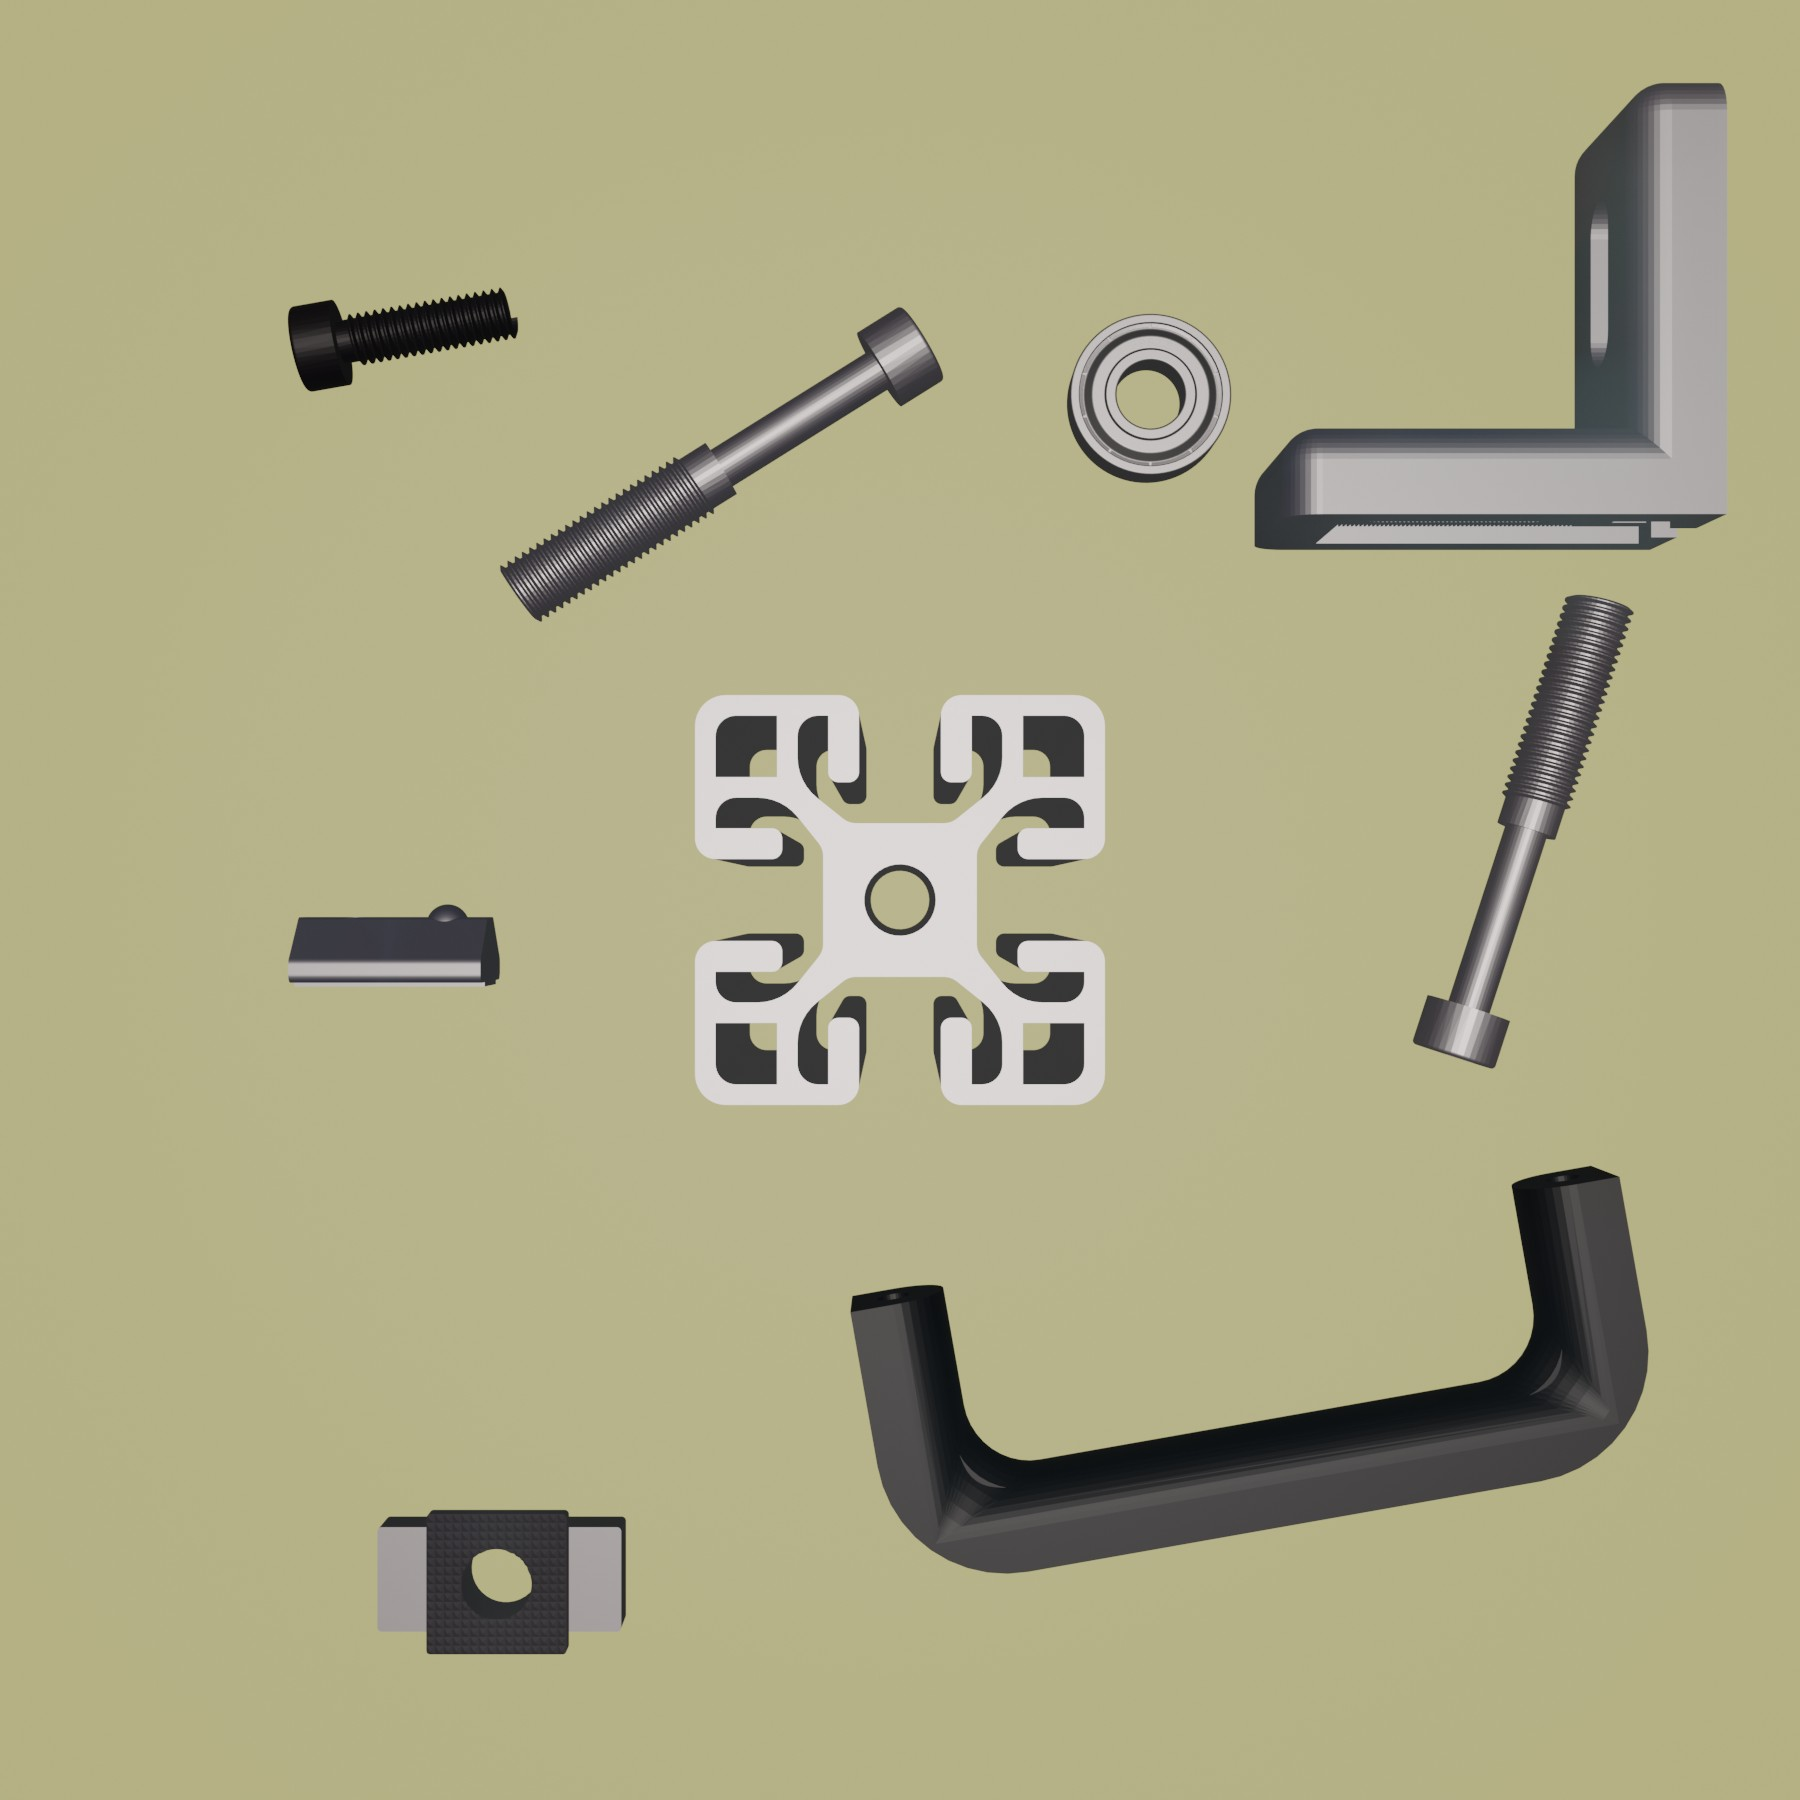Aluminium Extension: (691, 691, 1113, 1111)
Ball Bearing: (1065, 312, 1235, 486)
Multiwinkel: (1249, 77, 1736, 557)
Pull Handle: (847, 1160, 1652, 1577)
Shoulder Socket Head Cap Screw: (496, 303, 946, 623), (1408, 592, 1637, 1071)
Socket Head Cap Screw: (285, 282, 523, 396)
T Nut Square: (369, 1503, 630, 1658)
T Spring Nut: (280, 898, 504, 992)
